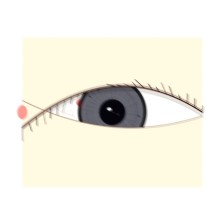hemorrhage_spot: (66, 71, 145, 135)
